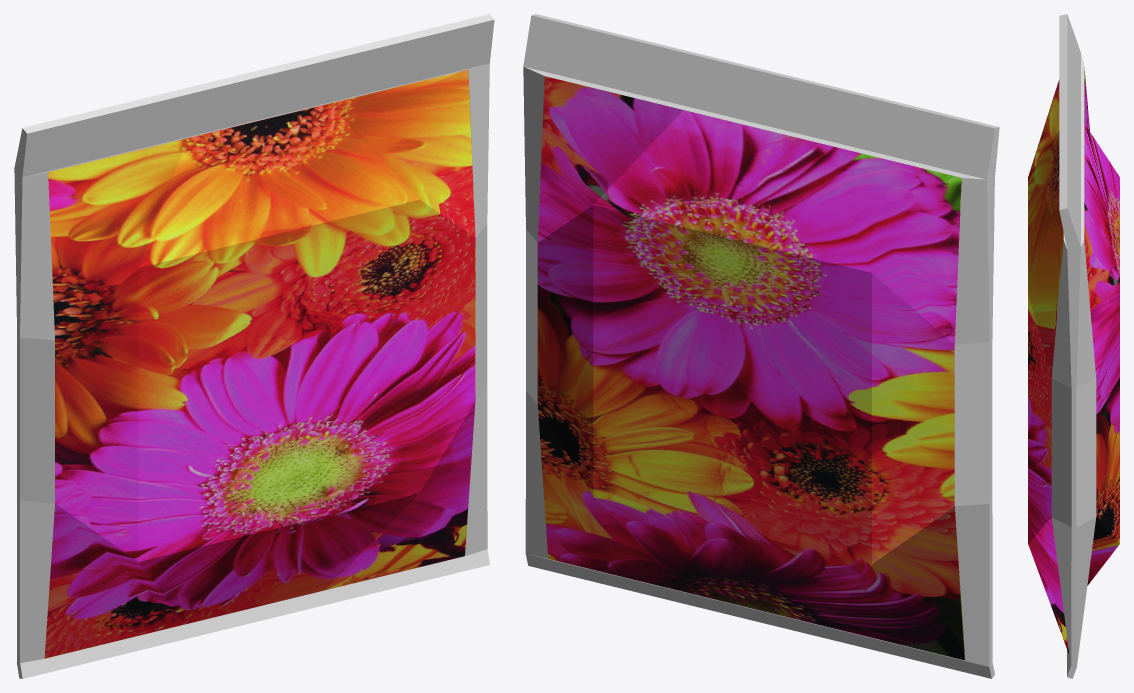
The model's file is SeedsBag.fbx.
3 views of the same model, side by side, from view 1: azimuth 30°, elevation 25°; view 2: azimuth 150°, elevation 25°; view 3: azimuth 270°, elevation 25° (orthographic). The views are drawn at different scales.
Visible parts, largest first — view 1: Bag; view 2: Bag; view 3: Bag.
Part boxes in pixels (x1,y1,x2,y2): Bag: (14, 14, 494, 678); Bag: (523, 14, 999, 678); Bag: (1028, 14, 1119, 678).
Bounding box in the file's own units: 200 × 226 × 39.9.
